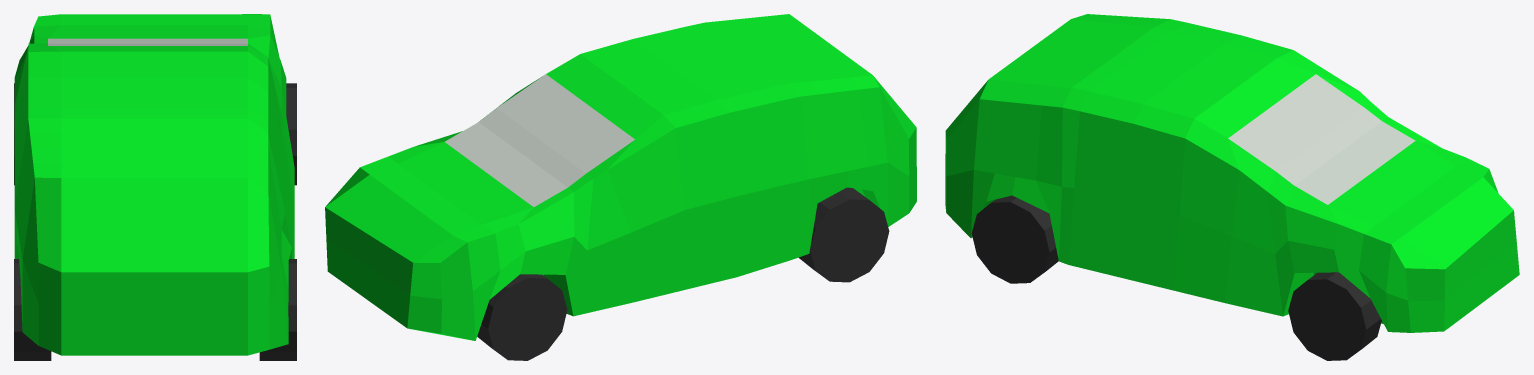
Rendered from shitBoxCar_2.fbx.
3 renders of one model, left to right at view 1: azimuth 30°, elevation 25°; view 2: azimuth 150°, elevation 25°; view 3: azimuth 270°, elevation 25°, orthographic. The views are drawn at different scales.
Parts seen in each view (by area): view 1: carGreen.001; view 2: carGreen.001; view 3: carGreen.001.
Boxes of the visible parts, x1=… form: carGreen.001: x1=14, y1=14, x2=296, y2=360; carGreen.001: x1=325, y1=14, x2=916, y2=360; carGreen.001: x1=945, y1=14, x2=1519, y2=360.
Size of the model in its own units: 34.44 by 16.37 by 44.63.
